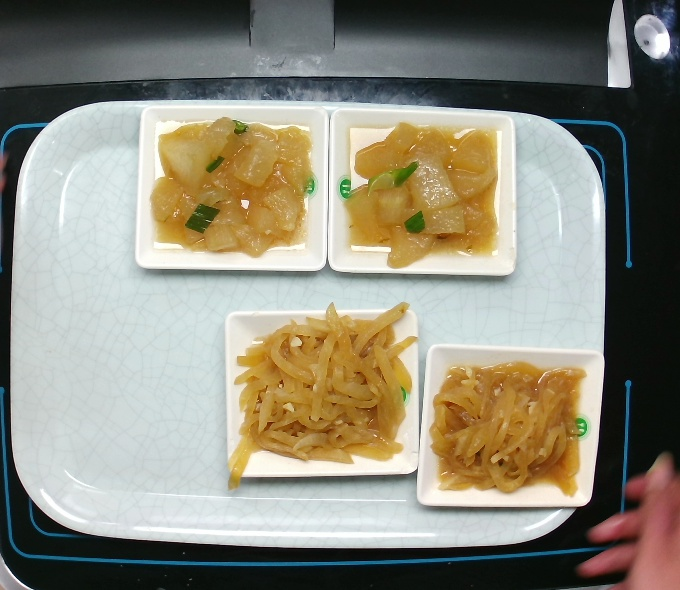wcq-DongGua: (339, 118, 502, 268), (150, 115, 317, 260)
wcq-LuoBoSi: (226, 299, 419, 492), (425, 358, 589, 498)
